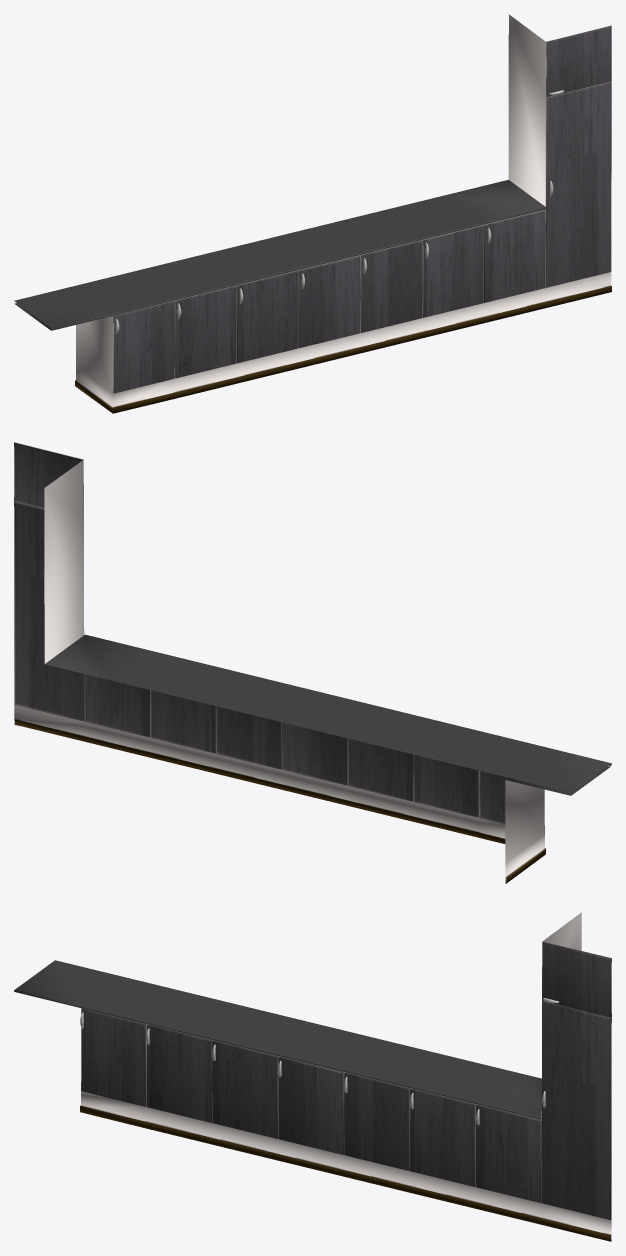
File: DarkTableV4.fbx
3 renders of one model, top to bottom at view 1: azimuth 30°, elevation 25°; view 2: azimuth 150°, elevation 25°; view 3: azimuth 330°, elevation 25°, orthographic. The views are drawn at different scales.
Parts seen in each view (by area): view 1: Dark Table; view 2: Dark Table; view 3: Dark Table.
Part boxes in pixels (box(x1,y1,x2,y2)): Dark Table: box(14, 14, 611, 413); Dark Table: box(14, 442, 611, 883); Dark Table: box(14, 912, 611, 1241).
Bounding box in the file's own units: 5.35 × 2.43 × 0.6552.
